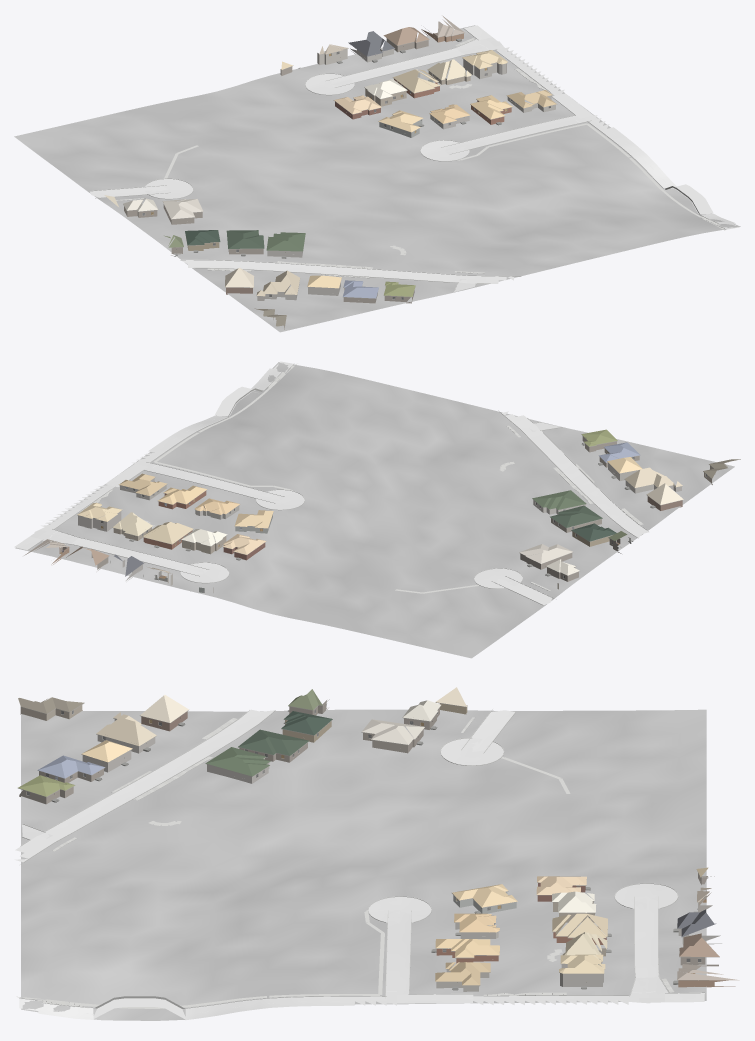
3 views of the same model, one above another, from view 1: azimuth 30°, elevation 25°; view 2: azimuth 150°, elevation 25°; view 3: azimuth 270°, elevation 25° (orthographic). The views are drawn at different scales.
Parts seen in each view (by area): view 1: ground, roof, concrete, asphalt, wall, curb, wall_stone, walk, detail, wall_stucco; view 2: ground, roof, concrete, asphalt, wall, curb, wall_stone, walk, detail; view 3: ground, roof, concrete, asphalt, wall, walk, wall_stone, curb, detail.
Boxes of the visible parts, x1=… form: ground: x1=14, y1=25, x2=740, y2=332; roof: x1=104, y1=15, x2=556, y2=326; concrete: x1=90, y1=39, x2=597, y2=291; asphalt: x1=464, y1=25, x2=739, y2=229; wall: x1=124, y1=29, x2=511, y2=329; curb: x1=90, y1=28, x2=725, y2=291; wall_stone: x1=257, y1=48, x2=555, y2=300; walk: x1=116, y1=38, x2=725, y2=277; detail: x1=115, y1=28, x2=557, y2=300; wall_stucco: x1=317, y1=49, x2=422, y2=137; ground: x1=15, y1=362, x2=734, y2=658; roof: x1=24, y1=429, x2=740, y2=576; concrete: x1=34, y1=411, x2=649, y2=604; asphalt: x1=14, y1=361, x2=293, y2=550; wall: x1=51, y1=436, x2=713, y2=592; curb: x1=28, y1=363, x2=647, y2=605; wall_stone: x1=78, y1=463, x2=681, y2=580; walk: x1=41, y1=363, x2=643, y2=593; detail: x1=52, y1=434, x2=713, y2=585; ground: x1=21, y1=709, x2=706, y2=1020; roof: x1=18, y1=687, x2=739, y2=985; concrete: x1=14, y1=709, x2=677, y2=1003; asphalt: x1=19, y1=993, x2=704, y2=1020; wall: x1=19, y1=700, x2=735, y2=987; walk: x1=16, y1=717, x2=674, y2=1008; wall_stone: x1=82, y1=719, x2=721, y2=991; curb: x1=19, y1=709, x2=704, y2=1008; detail: x1=18, y1=699, x2=719, y2=990.
Bounding box in the file's own units: 258 × 18.85 × 265.
